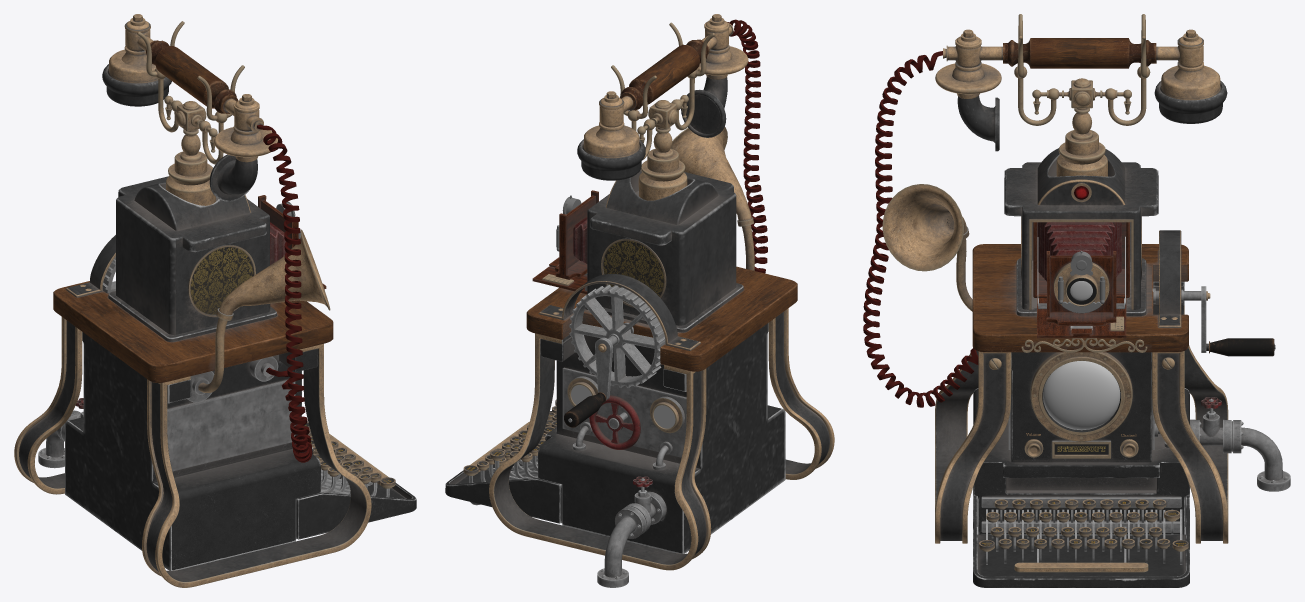
File: phone.fbx
3 views of the same model, side by side, from view 1: azimuth 30°, elevation 25°; view 2: azimuth 150°, elevation 25°; view 3: azimuth 270°, elevation 25° (orthographic). The views are drawn at different scales.
Parts seen in each view (by area): view 1: Cube.061; view 2: Cube.061; view 3: Cube.061.
Part boxes in pixels (x1,y1,x2,y2): Cube.061: [14, 14, 416, 587]; Cube.061: [445, 14, 834, 587]; Cube.061: [863, 14, 1290, 587].
Size of the model in its own units: 52.33 by 83.47 by 67.15.
